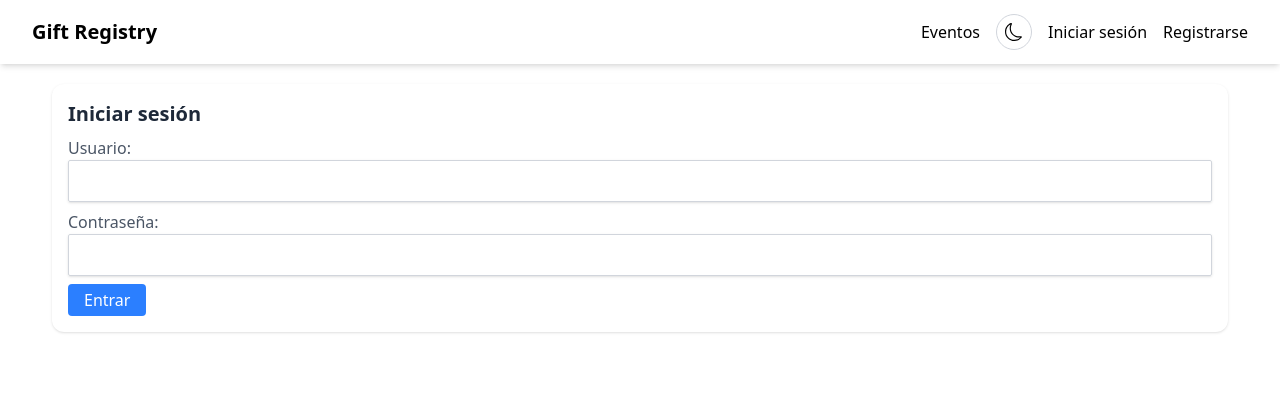
Login Form Validation and Authentication › Muestra errores de validación cuando los campos están vacíos
The width and height of the screenshot is (1280, 398).
Click the submit button. click: {"x": 107, "y": 300}
box: [68,284,146,316]
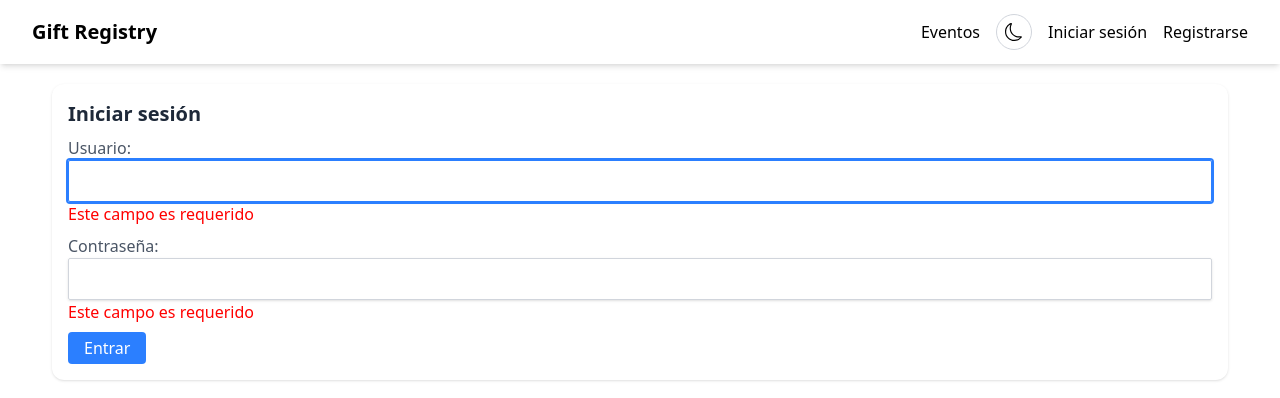
Expected: the text "Este campo es requerido" below "Usuario:" is shown, [68,203,254,225]
